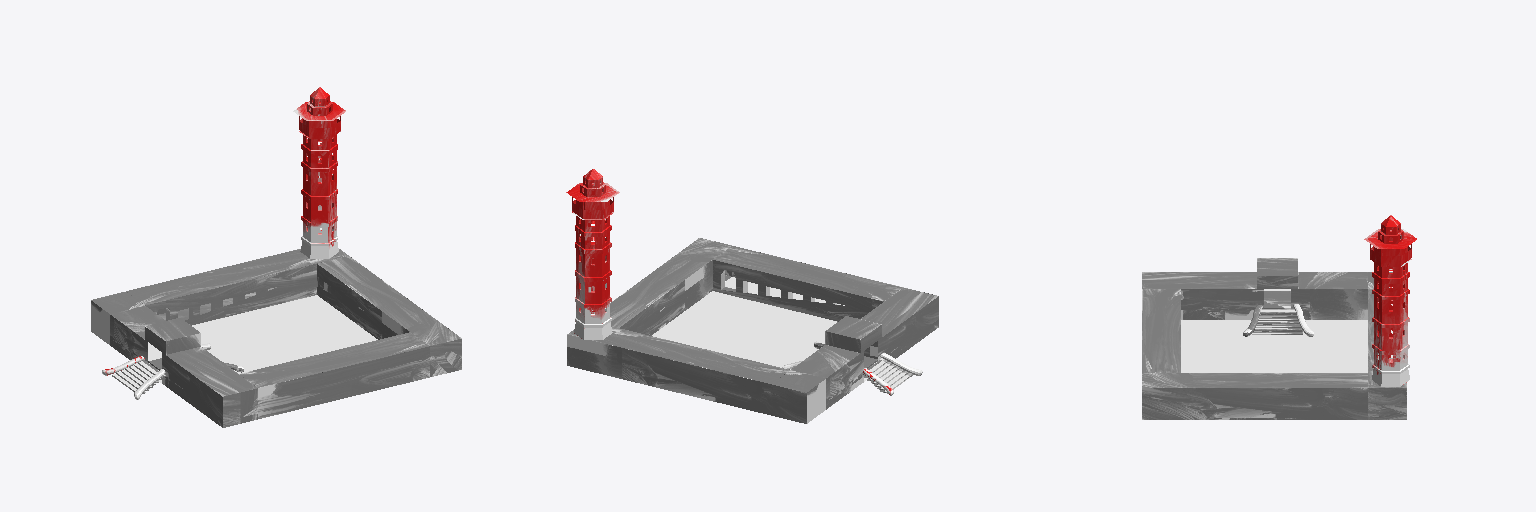
3 renders of one model, left to right at view 1: azimuth 30°, elevation 25°; view 2: azimuth 150°, elevation 25°; view 3: azimuth 270°, elevation 25°, orthographic.
Visible parts, largest first — view 1: Cube.015_Material.001, Cube.013_Material, aOmariNEwTest_Material, Cube.014_Material, Cylinder.001, StairsOutside; view 2: Cube.015_Material.001, Cube.013_Material, aOmariNEwTest_Material, Cylinder.001, Cube.014_Material, StairsOutside; view 3: Cube.015_Material.001, Cube.014_Material, aOmariNEwTest_Material, Cylinder.001, Cube.013_Material, sTAIRS.
Boxes of the visible parts, box(x1,y1,x2,y2) form: Cube.015_Material.001: box(192, 295, 429, 418); Cube.013_Material: box(91, 249, 348, 344); aOmariNEwTest_Material: box(110, 306, 257, 427); Cube.014_Material: box(317, 256, 461, 376); Cylinder.001: box(293, 87, 345, 258); StairsOutside: box(112, 360, 165, 393); Cube.015_Material.001: box(652, 246, 902, 379); Cube.013_Material: box(567, 326, 825, 423); aOmariNEwTest_Material: box(791, 287, 938, 409); Cylinder.001: box(566, 169, 619, 339); Cube.014_Material: box(610, 238, 731, 346); StairsOutside: box(861, 358, 913, 393); Cube.015_Material.001: box(1142, 289, 1367, 372); Cube.014_Material: box(1142, 373, 1367, 419); aOmariNEwTest_Material: box(1142, 258, 1367, 319); Cylinder.001: box(1364, 215, 1416, 386); Cube.013_Material: box(1368, 272, 1406, 419); sTAIRS: box(1252, 309, 1302, 334).
Bounding box in the file's own units: 37.32 × 25.25 × 31.94.
5 materials, 5 textured.